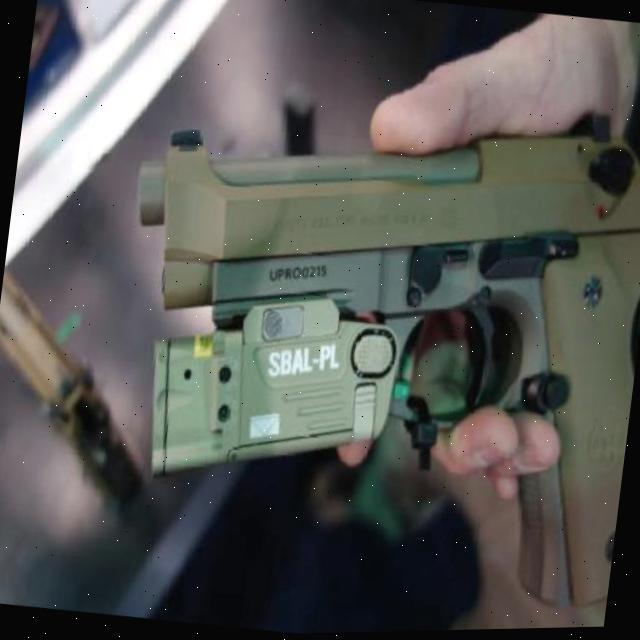gun: (90, 57, 640, 620)
